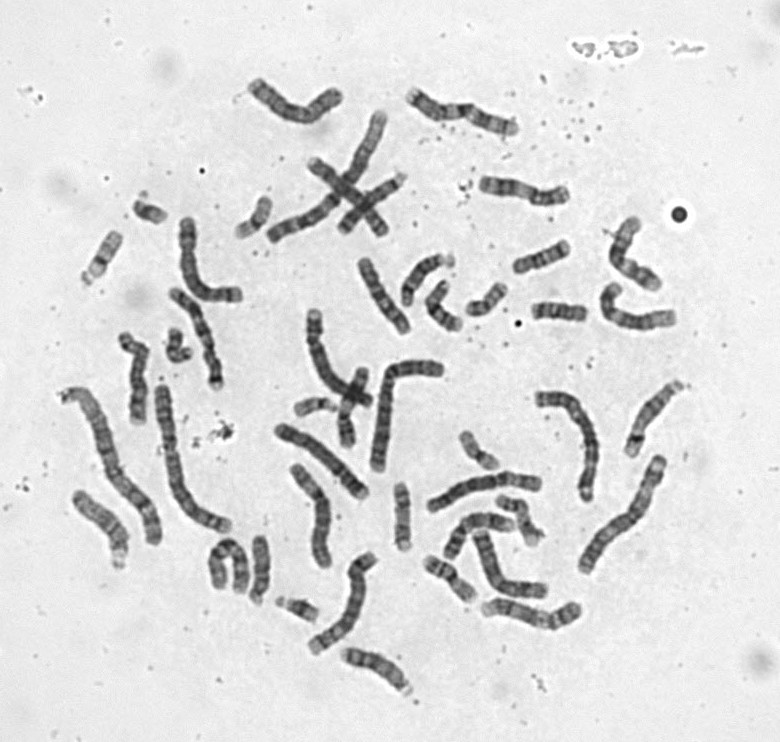chromosomes: (48, 384, 167, 550), (261, 108, 394, 249), (153, 382, 237, 540), (574, 452, 673, 578), (369, 355, 446, 476), (299, 549, 381, 656), (265, 422, 372, 504), (532, 388, 602, 508), (301, 307, 378, 410), (304, 153, 391, 242), (403, 82, 522, 147), (179, 210, 251, 313), (164, 287, 226, 397), (620, 379, 689, 465), (242, 75, 350, 129), (63, 490, 134, 571), (331, 168, 410, 240), (473, 529, 551, 601), (424, 470, 545, 516), (350, 254, 414, 340), (288, 460, 336, 571), (608, 214, 665, 298), (596, 278, 682, 333), (338, 647, 416, 701), (112, 327, 153, 428), (434, 513, 517, 562), (481, 598, 586, 634), (333, 363, 374, 453), (399, 250, 458, 312), (419, 550, 481, 606), (501, 233, 579, 276), (474, 176, 573, 209), (491, 492, 546, 550), (207, 538, 252, 600), (231, 188, 280, 243), (82, 229, 124, 291), (424, 280, 470, 334), (250, 526, 275, 608), (458, 428, 504, 472), (463, 280, 512, 321), (388, 480, 415, 554), (526, 299, 592, 329), (126, 190, 175, 227), (274, 589, 320, 624), (164, 325, 196, 369), (290, 396, 339, 418)
